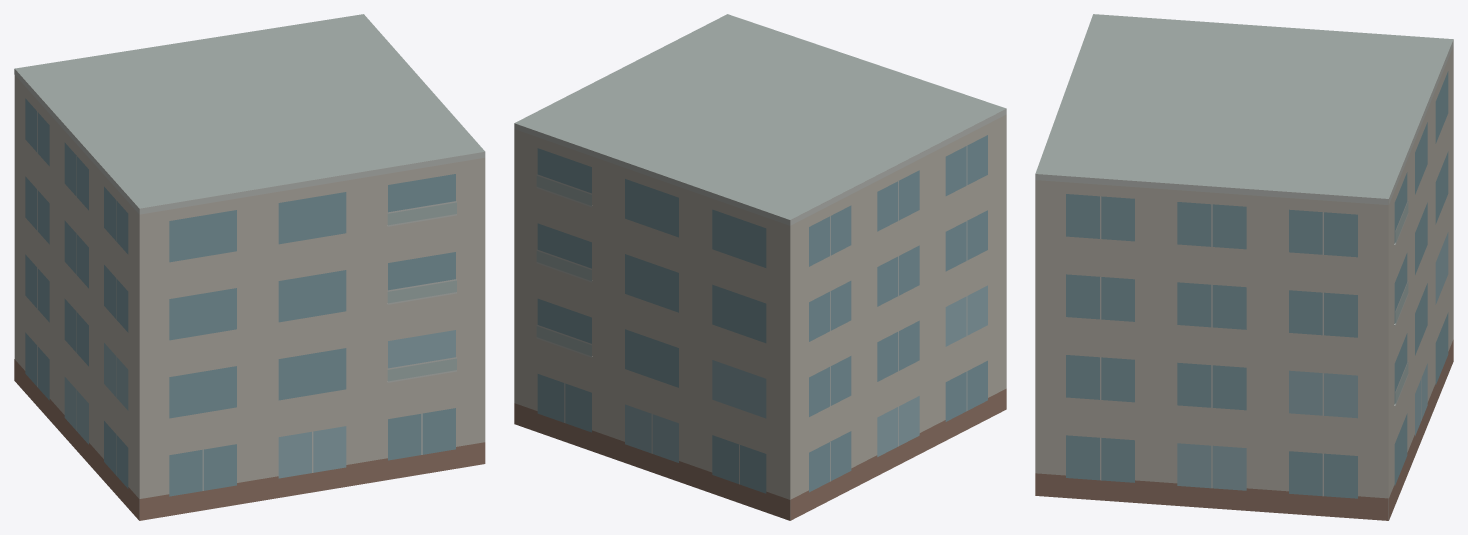
The model's file is survey-upis-32937472.glb.
3 renders of one model, left to right at view 1: azimuth 30°, elevation 25°; view 2: azimuth 150°, elevation 25°; view 3: azimuth 270°, elevation 25°, orthographic. The views are drawn at different scales.
Visible parts, largest first — view 1: survey-upis-32937472.tmp; view 2: survey-upis-32937472.tmp; view 3: survey-upis-32937472.tmp.
Boxes of the visible parts, x1,y1,x2,y2 form: survey-upis-32937472.tmp: (14,14,485,520); survey-upis-32937472.tmp: (514,14,1006,520); survey-upis-32937472.tmp: (1035,14,1453,520).
Bounding box in the file's own units: 15.73 × 12.75 × 15.03.
